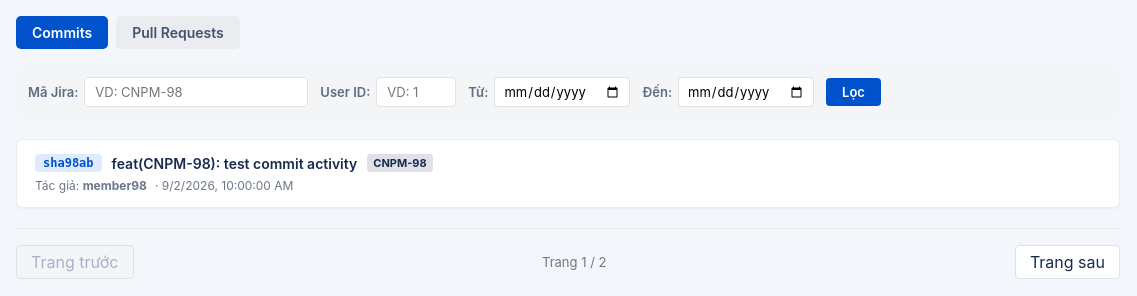
Test: GitHubActivityComponent Acceptance Tests (Task 98 DTO) › 4. Phân trang: Bấm 'Trang sau' gọi API page = 1 và hiển thị dữ liệu mới của trang 2
The image size is (1137, 296).
Expected: the text "Trang 1 / 2" is shown, [542,254,606,270]
Expected: the link "feat(CNPM-98): test commit activity" is shown, [112,154,357,172]
Click the button "Trang sau". click: (1067, 262)
box: [1015,245,1120,279]
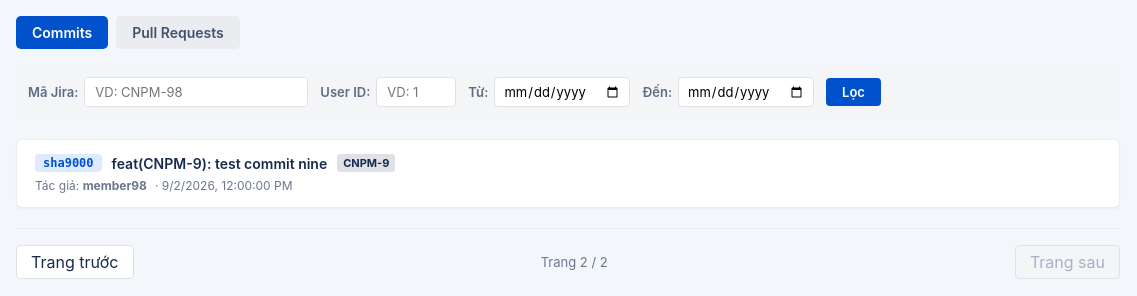
Now the link "feat(CNPM-9): test commit nine" is shown, box [112,154,327,172]
Now the link "sha9000" is shown, box [35,154,102,172]
